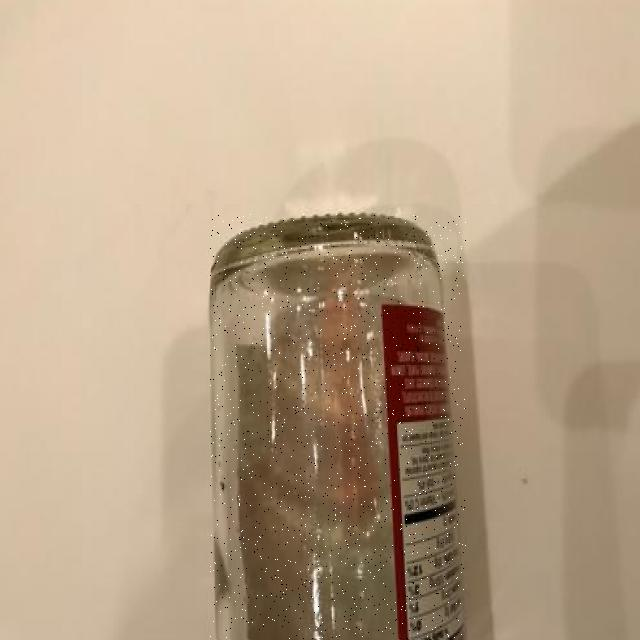glass: (211, 215, 466, 640)
